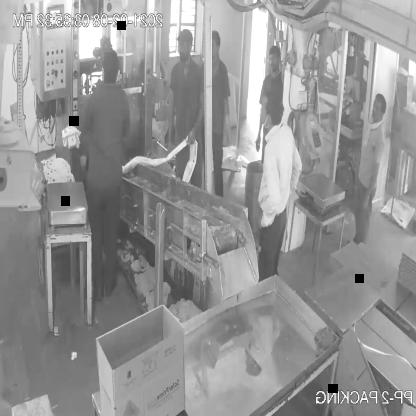glove: (221, 95, 236, 145)
no_glove: (184, 72, 212, 160), (360, 150, 389, 219), (257, 152, 280, 232), (163, 76, 181, 154), (286, 130, 303, 204), (255, 97, 268, 157)
